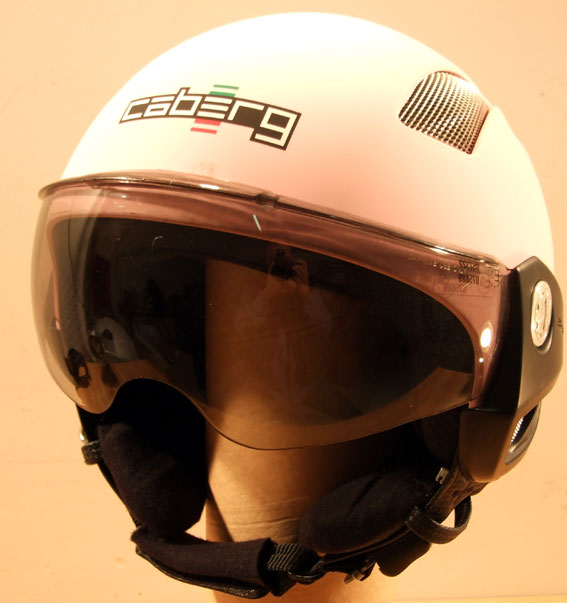helmet: (28, 3, 553, 519)
